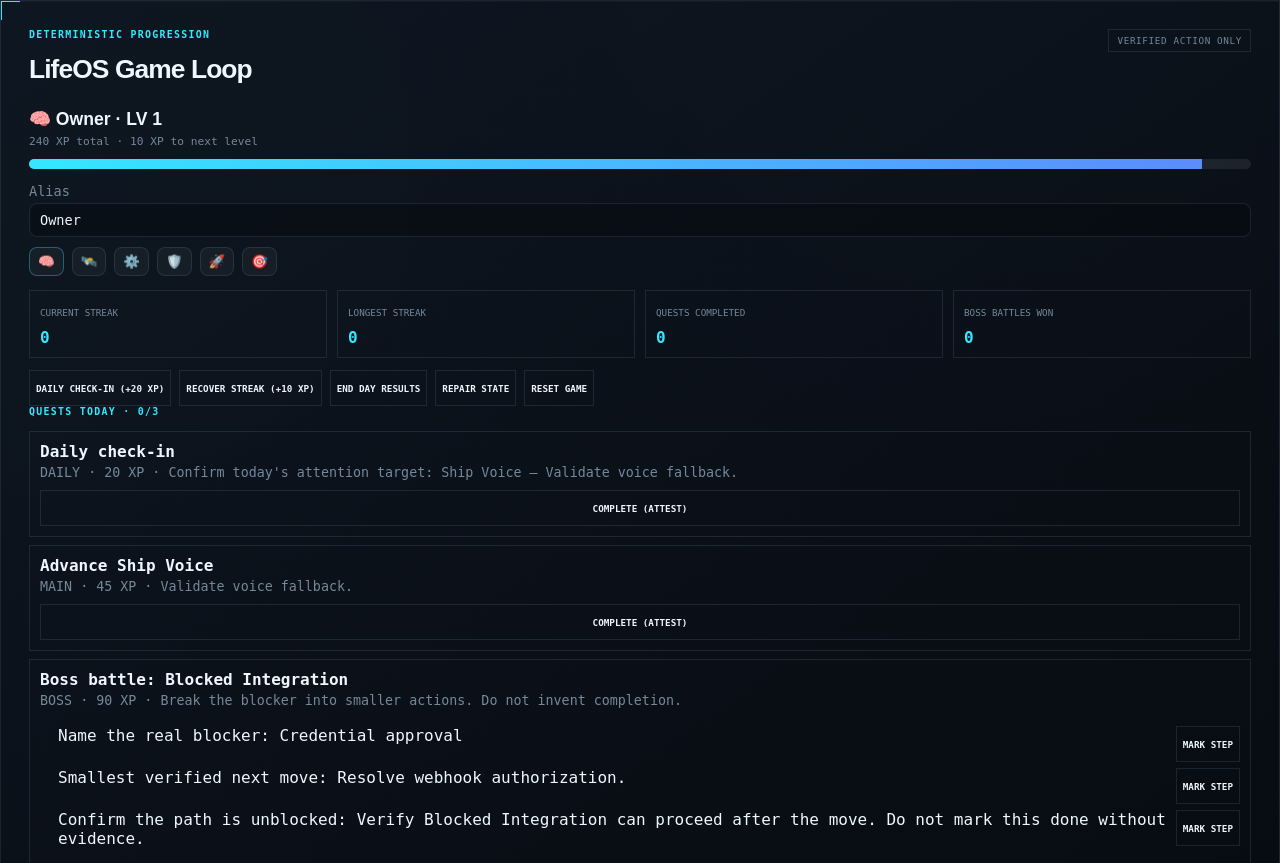
Test: GameLoopWidget feedback and safety › announces a level up when a quest crosses 250 XP
The image size is (1280, 863).
Expected: the text "240 XP total · 10 XP to next level" is shown, left=29, top=135, right=258, bottom=148
Click the button "Complete (attest)" below "Advance Ship Voice". click: (640, 622)
box: left=40, top=604, right=1240, bottom=640
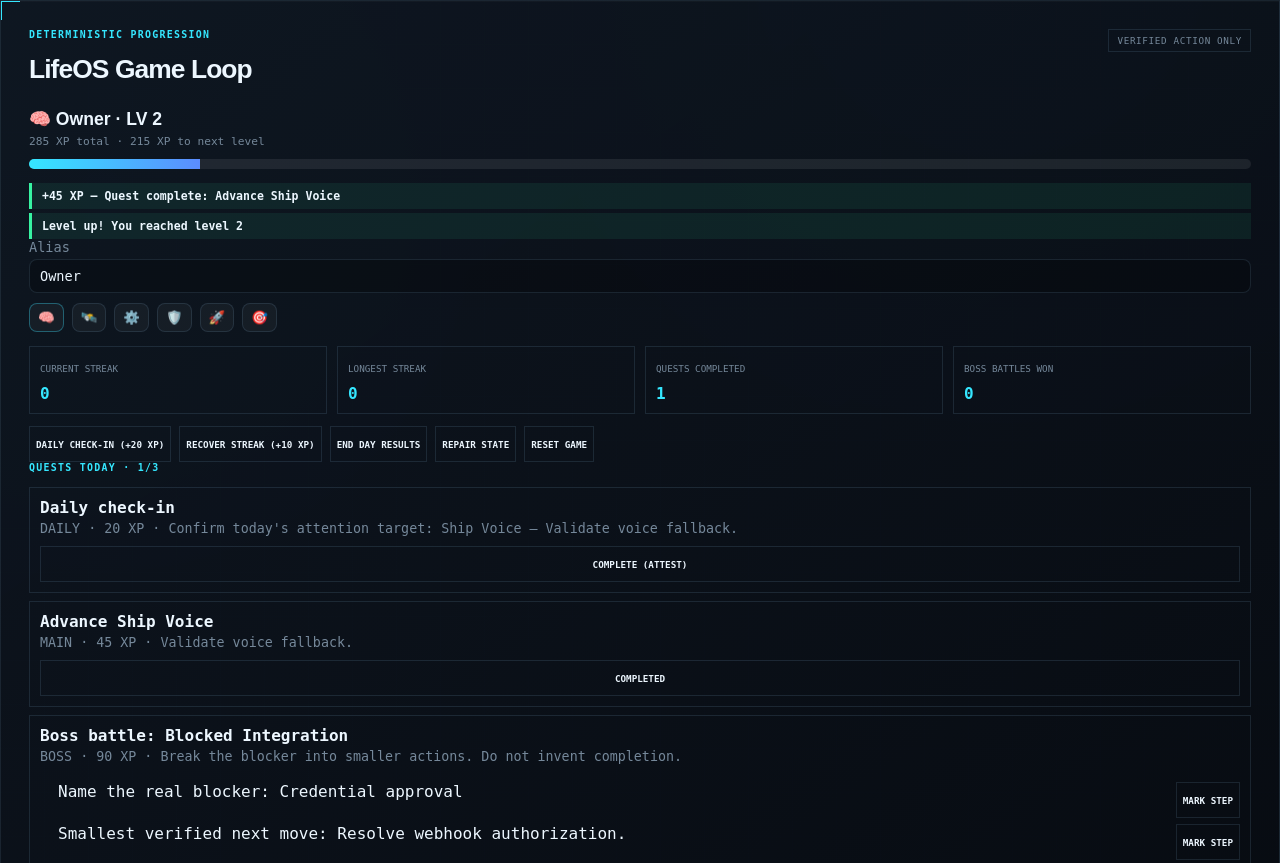
Now the message shows "+45 XP — Quest complete: Advance Ship Voice", box left=42, top=189, right=340, bottom=203
Now the message shows "Level up! You reached level 2", box left=42, top=219, right=243, bottom=233
Now the text "🧠 Owner · LV 2" is shown, box left=29, top=109, right=162, bottom=129
